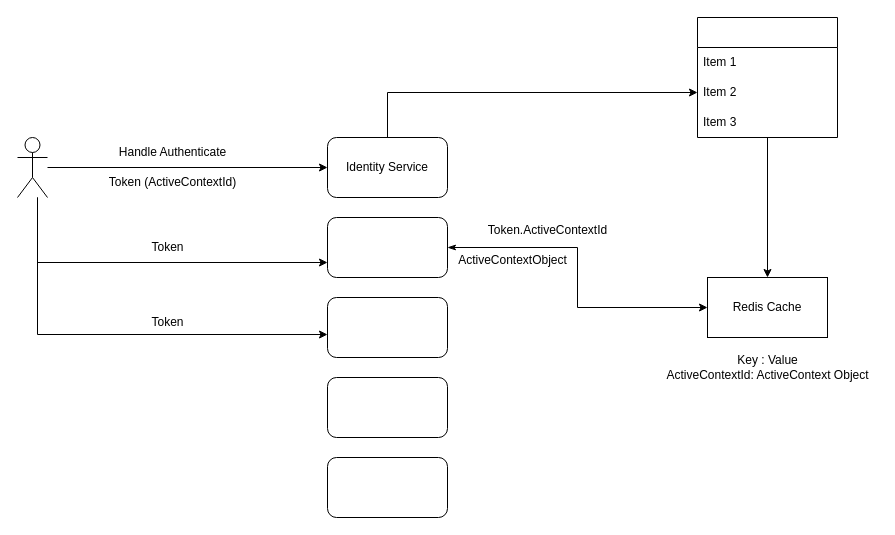
Some shapes in this 895 by 535 pixel diagram are drawn without their labels. The shapes that lost their labels are listed below. From the top down, each one's box as (x1, y1, x2, y2) in pixels, then its label:
(696, 16, 838, 138): ActiveContextId
(16, 136, 48, 198): Actor
